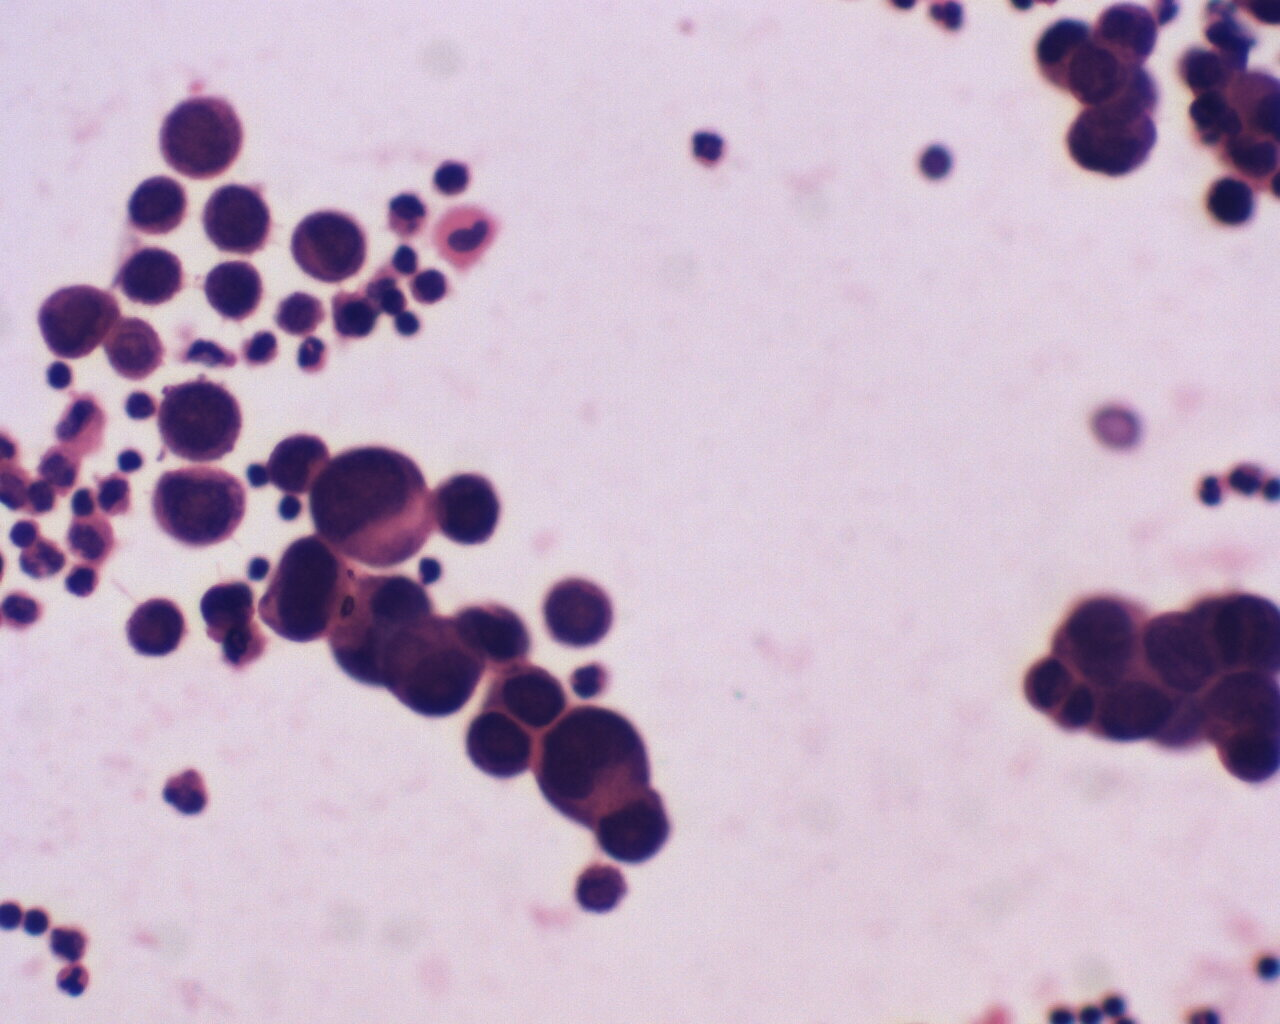ab: (311, 439, 430, 566), (539, 704, 650, 823), (386, 611, 483, 718), (261, 536, 354, 642), (148, 457, 248, 546), (1057, 592, 1150, 683), (159, 92, 250, 183), (1064, 103, 1163, 183), (155, 378, 240, 464), (34, 282, 121, 366), (589, 779, 675, 863), (289, 205, 373, 283), (1146, 604, 1216, 697), (541, 574, 613, 655), (491, 654, 568, 729), (200, 177, 273, 256), (429, 466, 501, 548), (467, 709, 535, 784), (118, 239, 187, 307), (101, 313, 168, 380), (203, 255, 267, 322), (124, 594, 191, 658), (127, 174, 191, 240), (1203, 170, 1263, 234)
neutro: (686, 121, 729, 172), (294, 330, 335, 374), (53, 958, 92, 999)
